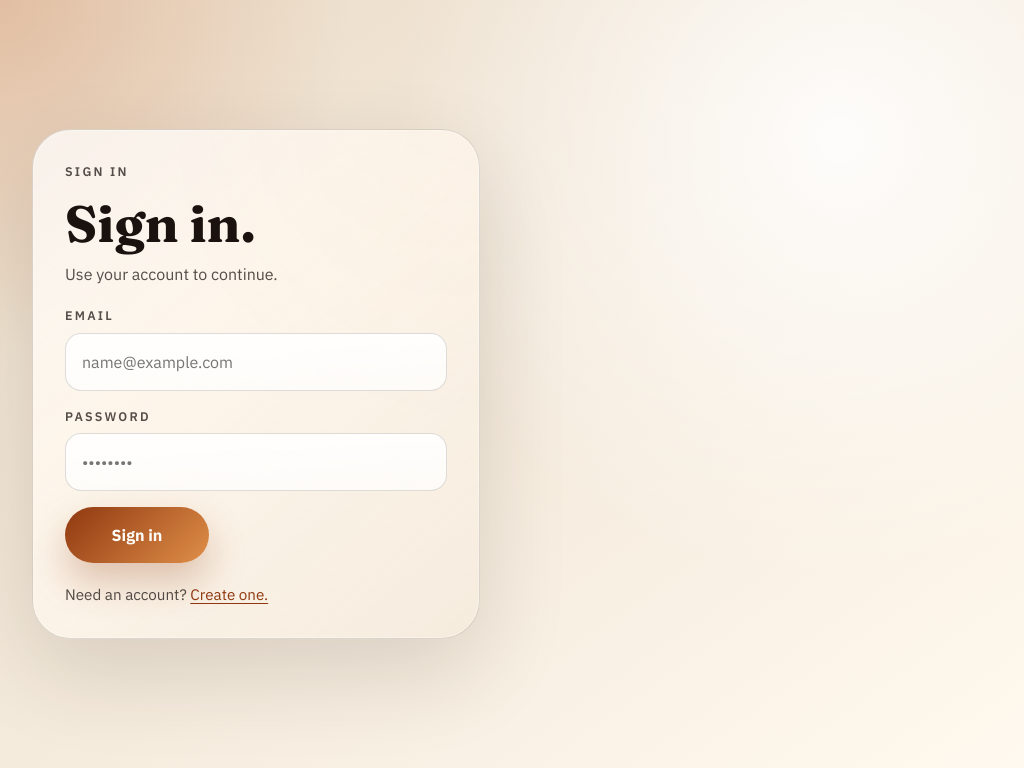
Scenario: auth feature › auth login transitions into the dashboard
The width and height of the screenshot is (1024, 768).
Expected: the button "Sign in" is shown, [65, 507, 209, 563]
Type "login@example.com" into the field labelled "Email" at (256, 362), box [65, 333, 447, 391]
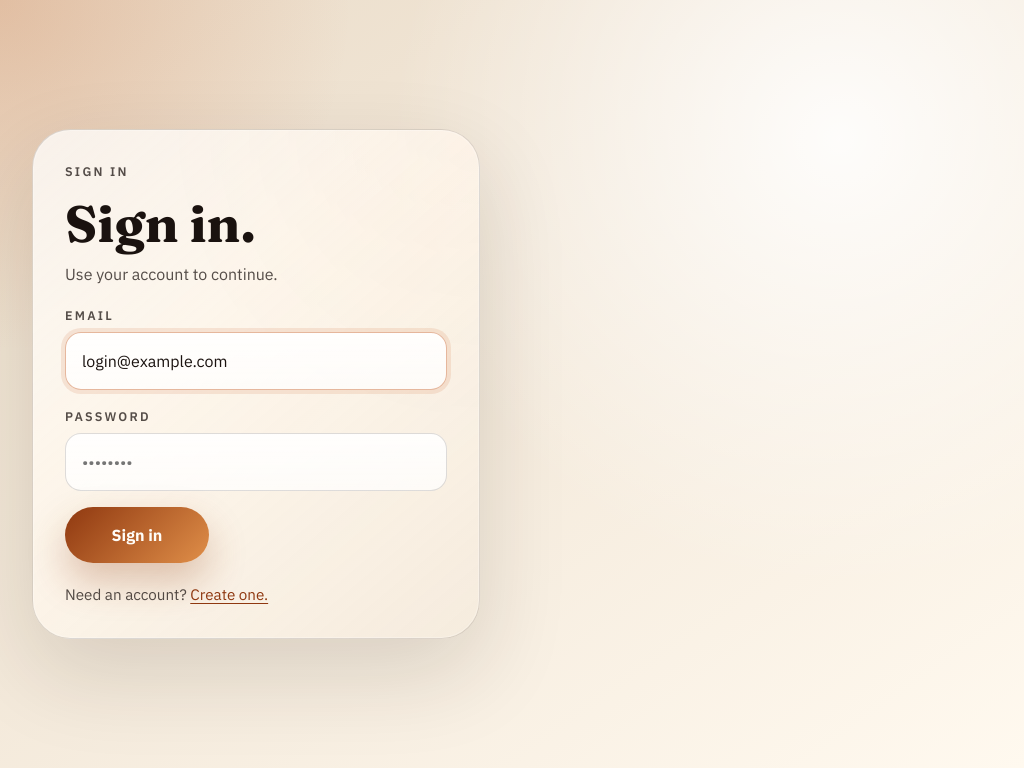
Type "Harness1!" into the password field labelled "Password" at (256, 462), box [65, 433, 447, 491]
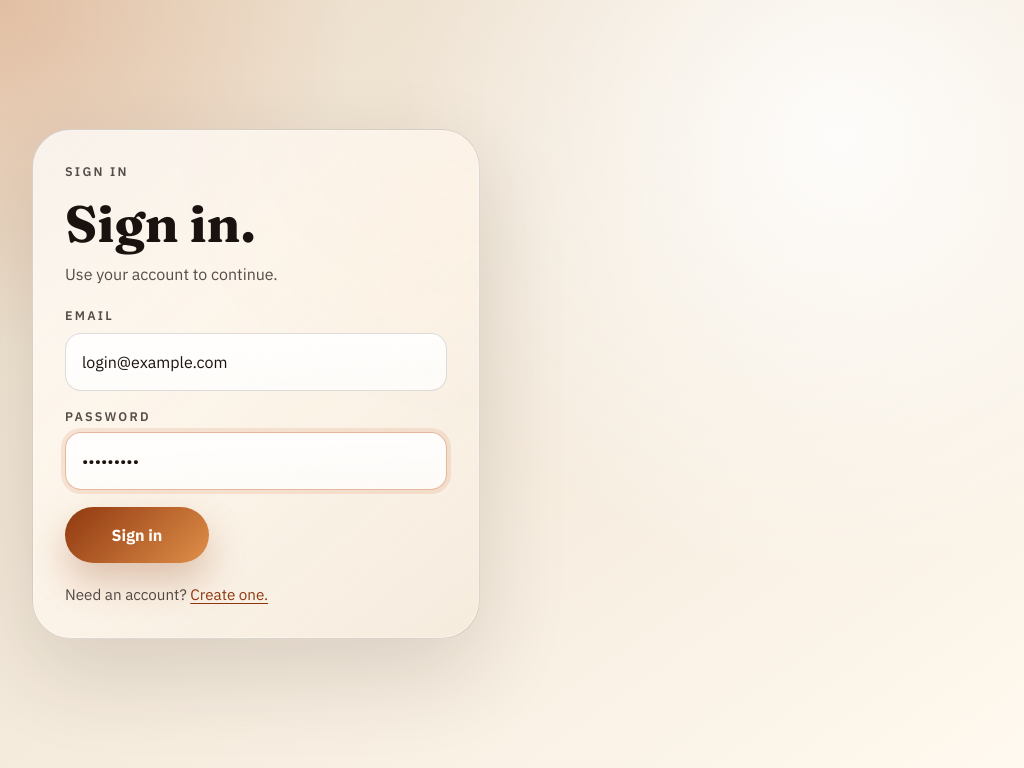
Click the button "Sign in" at (137, 535), box [65, 507, 209, 563]
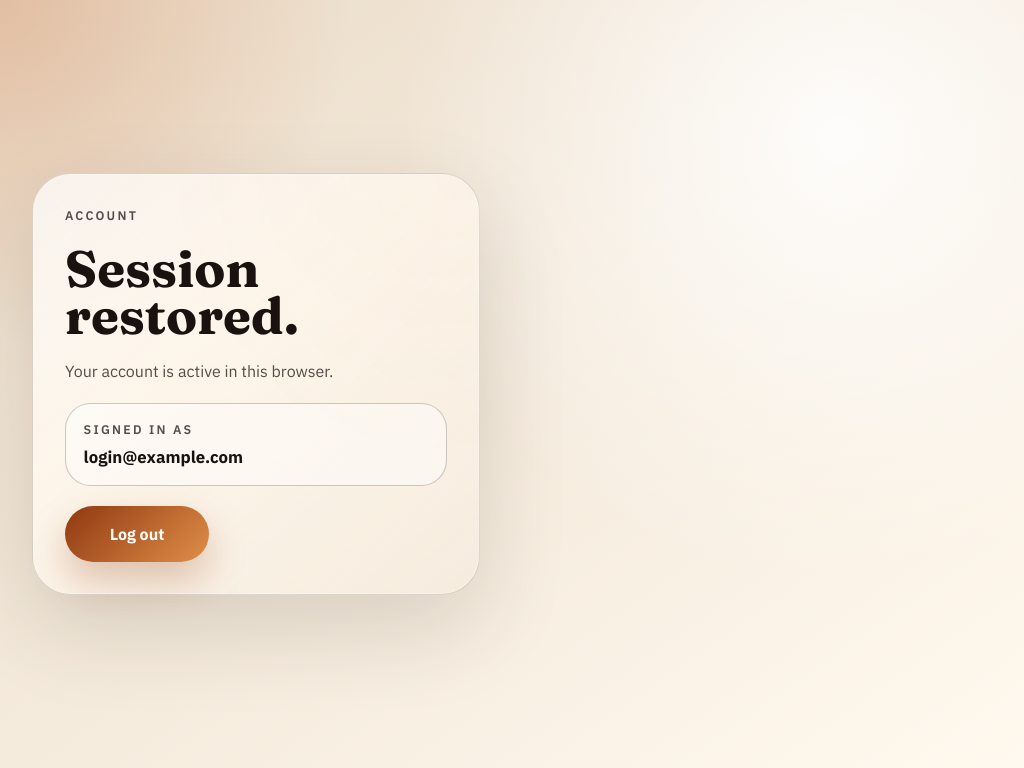
Result: the heading "Session restored." is shown at [65, 236, 299, 347]
